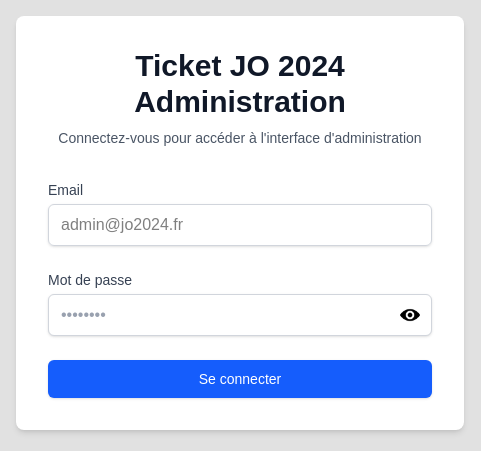
Test: LoginAdminForm › should clear error when form is resubmitted
Note: First submission with error
Type "admin@test.com" into the field labelled "Email" at (240, 225), box [48,204,432,246]
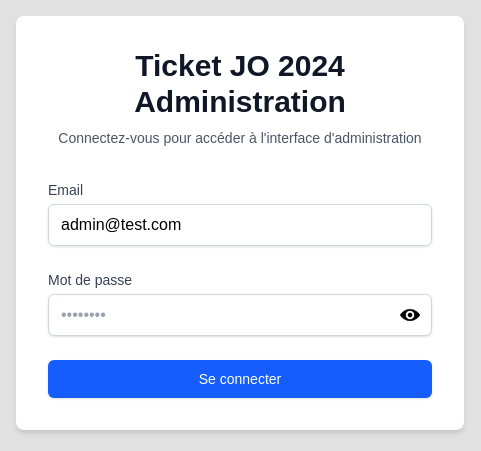
Type "wrongpassword" into the password field labelled "Mot de passe" at (240, 315), box [48,294,432,336]
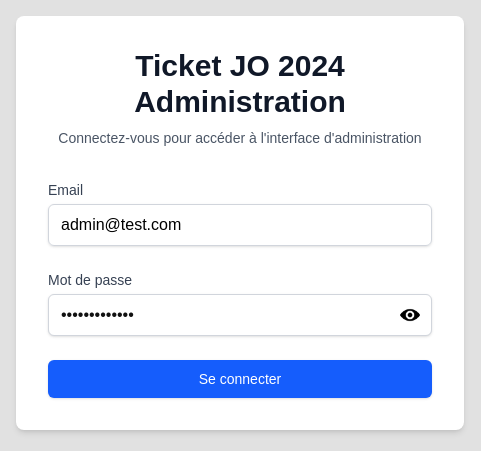
Click the button "Se connecter" at (240, 379), box [48,360,432,398]
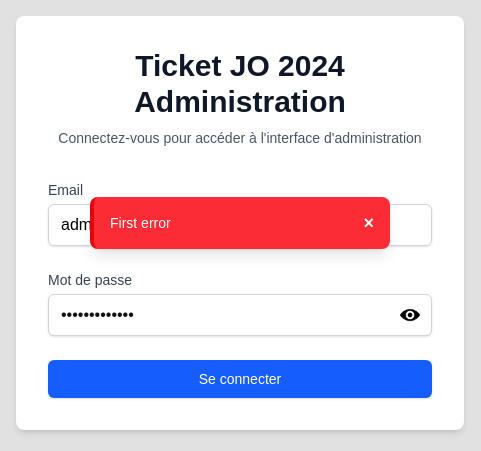
Expected: the text "First error" is shown, [110,213,171,233]
Note: Second submission should clear error
Type "correctpassword" into the password field labelled "Mot de passe" at (240, 315), box [48,294,432,336]
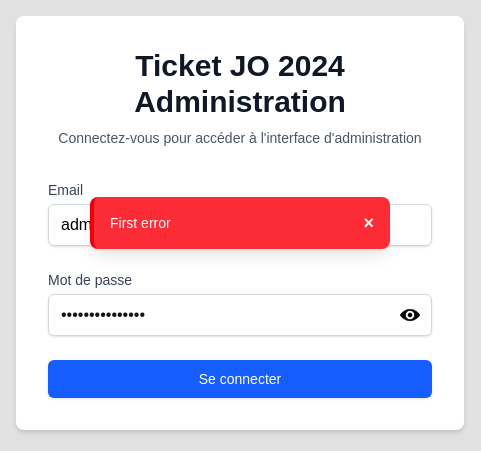
Click the button "Se connecter" at (240, 379), box [48,360,432,398]
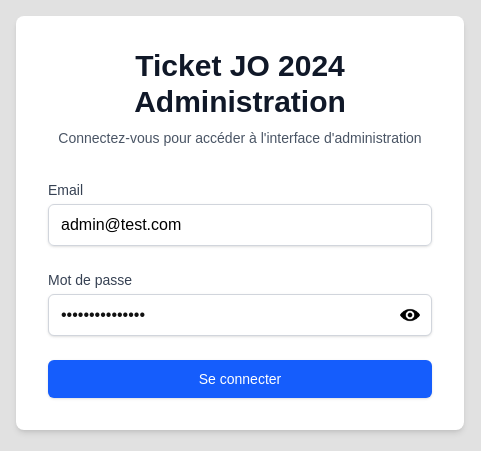
Expected: the text "First error" is gone
